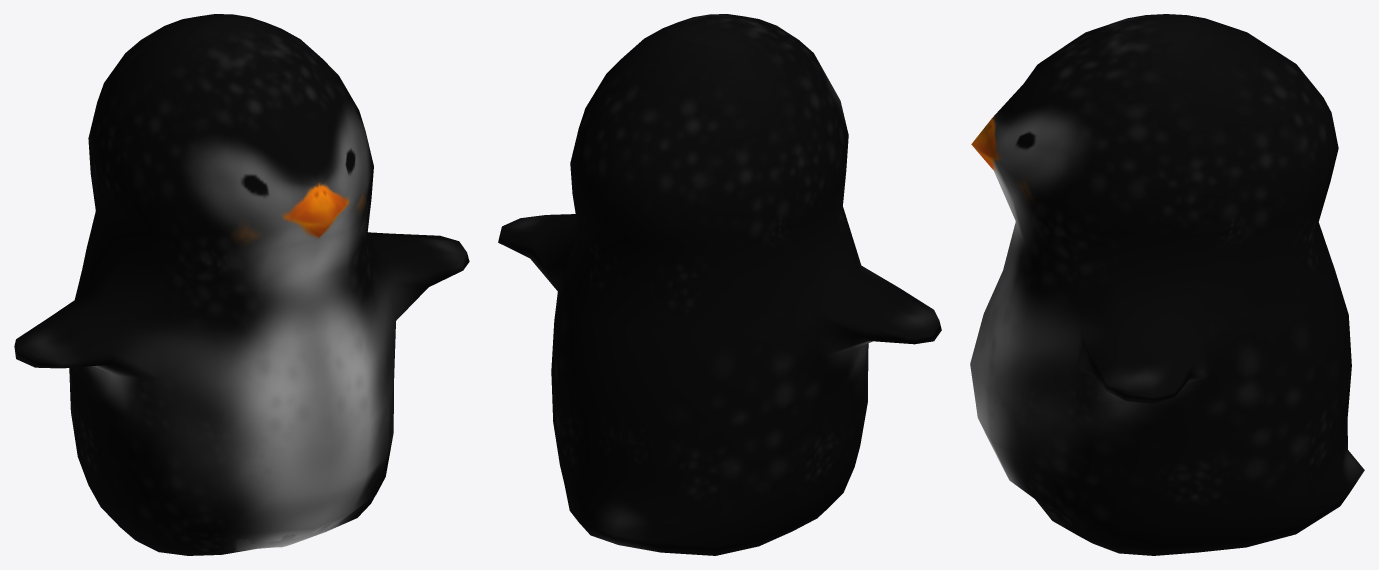
File: Penguino.fbx
3 renders of one model, left to right at view 1: azimuth 30°, elevation 25°; view 2: azimuth 150°, elevation 25°; view 3: azimuth 270°, elevation 25°, orthographic. The views are drawn at different scales.
Parts seen in each view (by area): view 1: Penguino; view 2: Penguino; view 3: Penguino.
Boxes of the visible parts, bbox=[...] form: Penguino: bbox=[14, 14, 469, 555]; Penguino: bbox=[498, 14, 941, 555]; Penguino: bbox=[970, 14, 1364, 555].
Size of the model in its own units: 95.12 by 99.42 by 73.12.
Materials: 1 (1 with a texture image).
